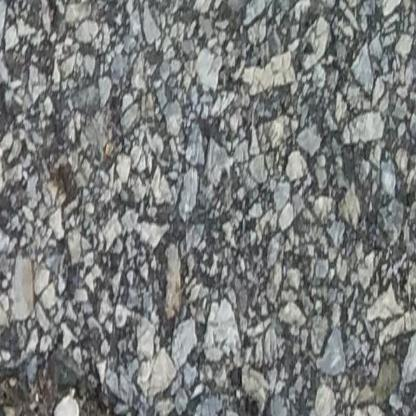Cracks: (0, 370, 141, 416)
